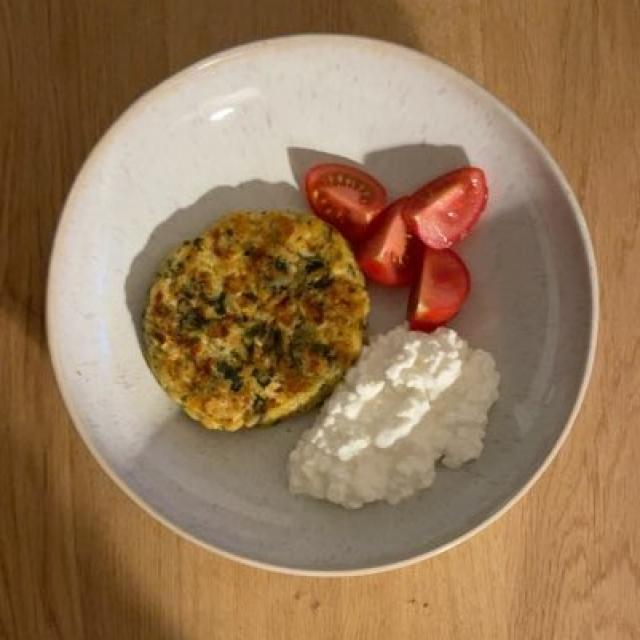cottage-cheese: (284, 325, 511, 509)
tomato-raw: (313, 156, 486, 317)
